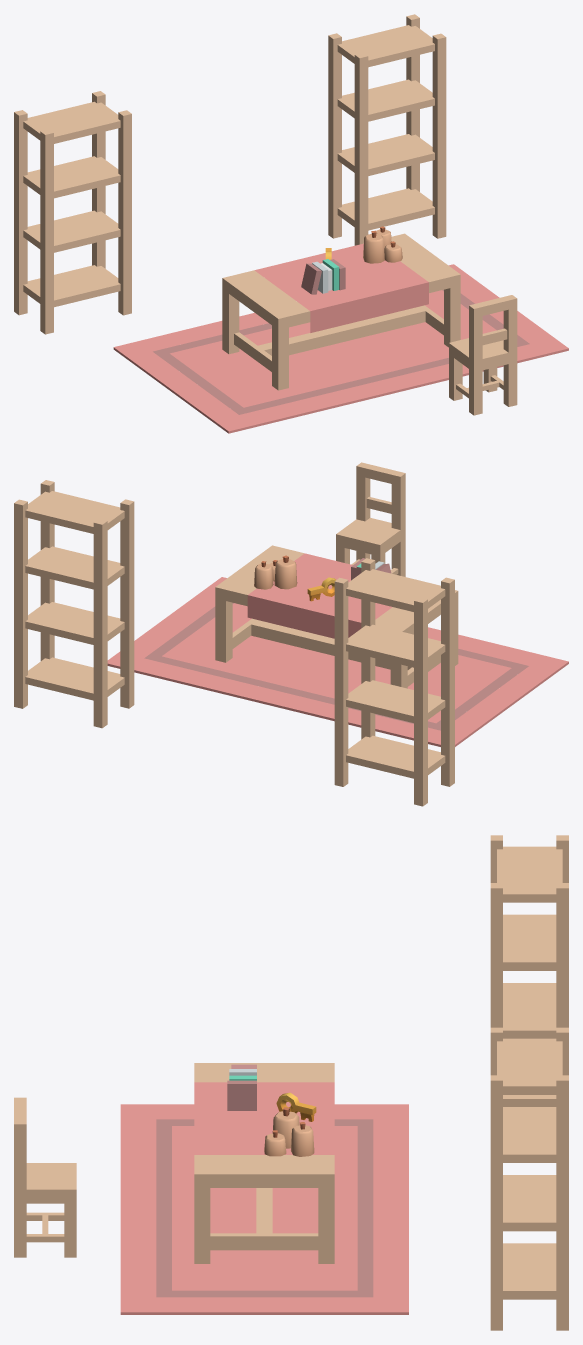
The model's file is bld_map_room_2x2.glb.
The picture shows the model from 3 angles, top to bottom: view 1: azimuth 30°, elevation 25°; view 2: azimuth 150°, elevation 25°; view 3: azimuth 270°, elevation 25°; orthographic projection. The views are drawn at different scales.
Parts seen in each view (by area): view 1: rugRectangle(Clone), bookcaseOpen(Clone)2, bookcaseOpen(Clone), tableCloth(Clone), chair(Clone), books(Clone), candle-multiple; view 2: rugRectangle(Clone), bookcaseOpen(Clone)2, bookcaseOpen(Clone), tableCloth(Clone), chair(Clone), candle-multiple; view 3: rugRectangle(Clone), bookcaseOpen(Clone)2, tableCloth(Clone), bookcaseOpen(Clone), chair(Clone), candle-multiple, books(Clone).
Boxes of the visible parts, <box> form: rugRectangle(Clone): <box>113,264,568,433</box>; bookcaseOpen(Clone)2: <box>328,14,446,245</box>; bookcaseOpen(Clone): <box>14,91,131,334</box>; tableCloth(Clone): <box>222,233,460,390</box>; chair(Clone): <box>449,295,517,415</box>; books(Clone): <box>301,259,345,294</box>; candle-multiple: <box>363,226,402,263</box>; rugRectangle(Clone): <box>107,577,568,746</box>; bookcaseOpen(Clone)2: <box>14,480,134,728</box>; bookcaseOpen(Clone): <box>334,558,454,806</box>; tableCloth(Clone): <box>215,545,458,688</box>; chair(Clone): <box>336,462,405,576</box>; candle-multiple: <box>254,555,297,589</box>; rugRectangle(Clone): <box>120,1104,408,1314</box>; bookcaseOpen(Clone)2: <box>490,1027,568,1330</box>; tableCloth(Clone): <box>194,1063,334,1263</box>; bookcaseOpen(Clone): <box>490,835,568,1106</box>; chair(Clone): <box>14,1097,76,1257</box>; candle-multiple: <box>264,1107,314,1156</box>; books(Clone): <box>227,1064,256,1110</box>.
Bounding box in the file's own units: 1.85 × 0.88 × 1.77.
Materials: 12 (2 with a texture image).
